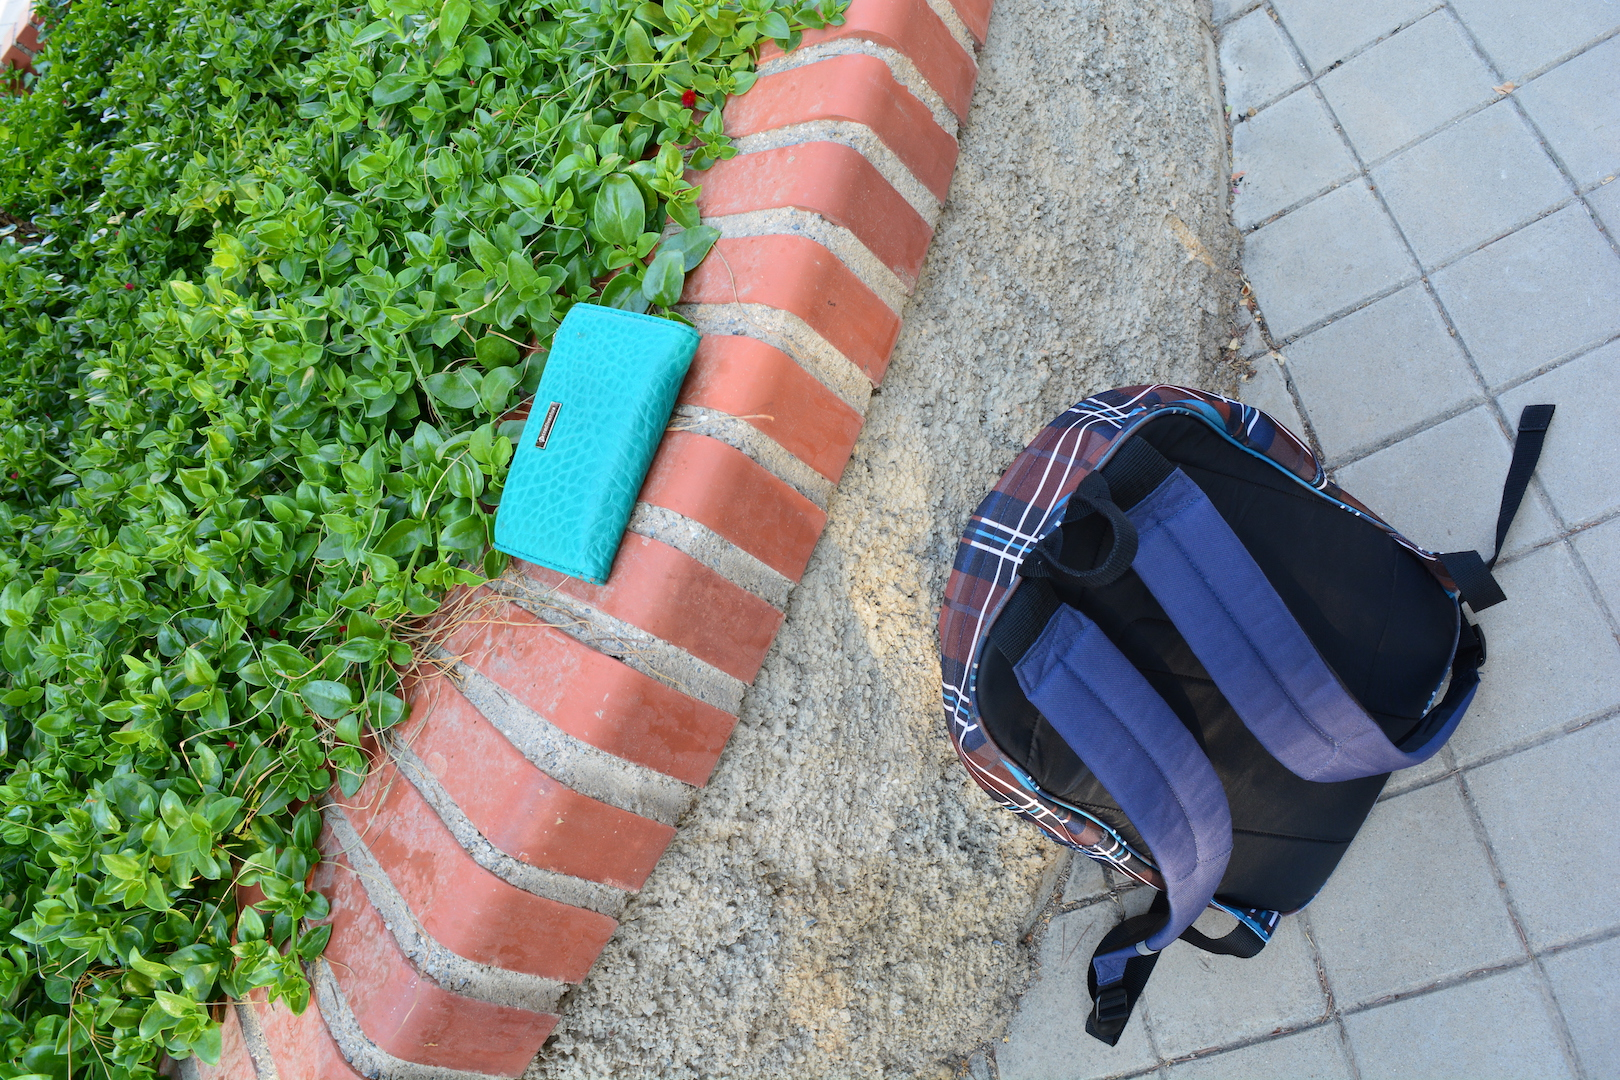monedero: (491, 297, 704, 589)
